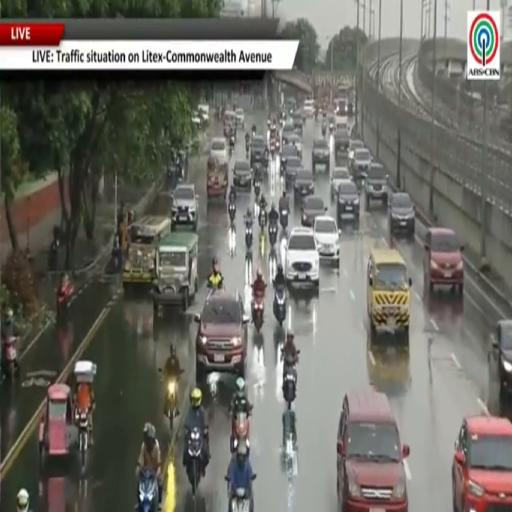car: (337, 387, 410, 511), (452, 415, 511, 511), (194, 291, 249, 382), (367, 248, 411, 343), (122, 215, 171, 287), (423, 228, 464, 295), (285, 228, 319, 289), (490, 319, 511, 398), (313, 215, 339, 264), (171, 184, 198, 230), (388, 192, 415, 237), (364, 162, 389, 210), (337, 180, 359, 226), (301, 196, 326, 227), (350, 149, 372, 181), (331, 167, 351, 199), (294, 168, 314, 199), (312, 138, 330, 172), (280, 144, 301, 171), (233, 160, 251, 190), (210, 137, 229, 164), (251, 135, 266, 167), (285, 156, 302, 183), (283, 135, 302, 157), (349, 139, 365, 165), (334, 130, 350, 155), (281, 144, 300, 159), (292, 112, 303, 135), (191, 110, 203, 129), (282, 122, 295, 139), (198, 104, 209, 123), (335, 98, 347, 115), (303, 99, 314, 117), (336, 117, 349, 132), (236, 108, 244, 129), (347, 101, 354, 117)
jeepney: (152, 232, 198, 311), (123, 216, 170, 285), (207, 157, 228, 199)
motorcycle: (186, 427, 203, 494), (225, 476, 253, 511), (138, 469, 159, 511), (75, 409, 89, 468), (231, 411, 249, 453), (2, 336, 19, 379), (165, 379, 178, 430), (282, 364, 297, 408), (273, 286, 287, 326), (57, 283, 73, 315), (231, 488, 252, 511), (252, 294, 264, 332), (48, 240, 59, 271), (268, 223, 278, 247), (245, 226, 253, 249), (258, 210, 267, 230), (280, 210, 288, 230), (228, 203, 236, 222), (254, 181, 261, 199), (263, 152, 269, 172), (280, 158, 286, 176), (230, 135, 235, 152), (270, 147, 275, 161), (276, 140, 280, 153), (322, 124, 326, 137), (315, 109, 318, 120), (246, 148, 249, 159), (330, 124, 333, 134), (252, 131, 255, 139)
